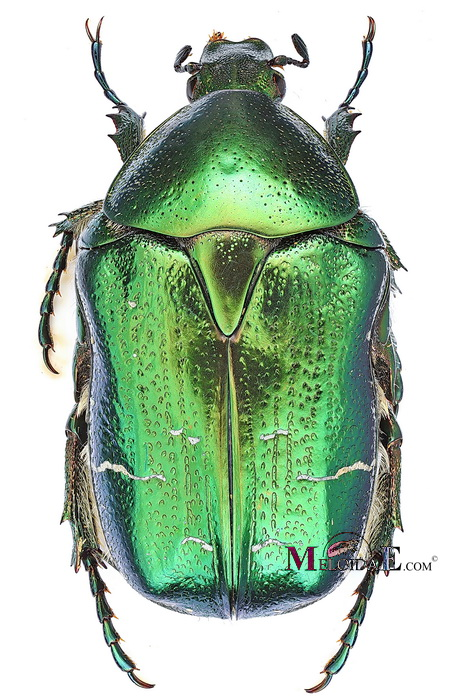Cetonia_aurata: (24, 1, 416, 696)
